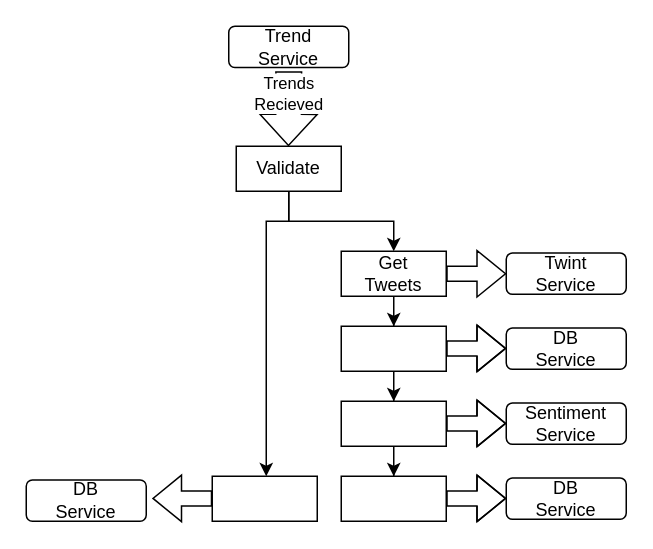
The diagram is 653 pixels wide and 549 high, and some of its shapes have lost their labels. Each missing label, with the centre of its shape:
"Get Sentiment" goes at [393,423].
"Remove Duplicates" goes at [393,348].
"Save Sentiment" goes at [393,498].
"Save Trends" goes at [264,498].
